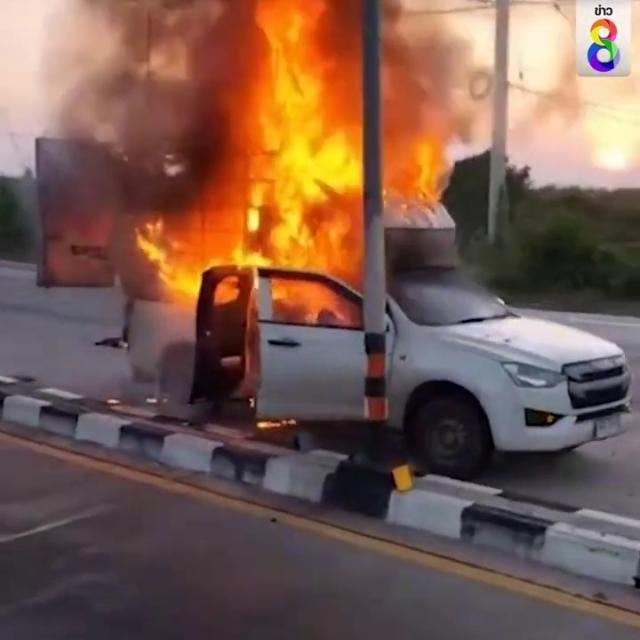Fire: (230, 0, 363, 265), (136, 216, 202, 298), (381, 128, 444, 200)
Smoke: (45, 0, 228, 214), (381, 0, 472, 125)
